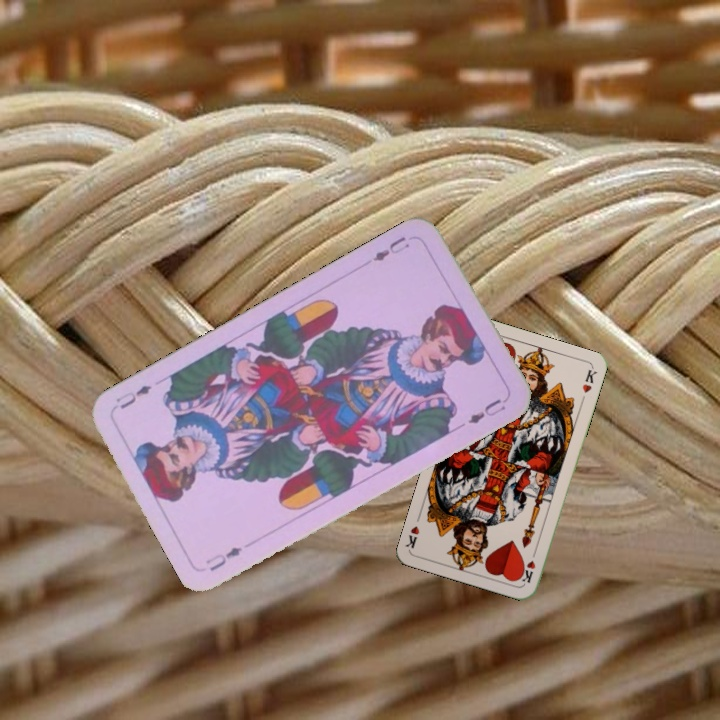EU: (368, 232, 412, 264), (201, 542, 245, 574)
HK: (517, 546, 539, 586)
